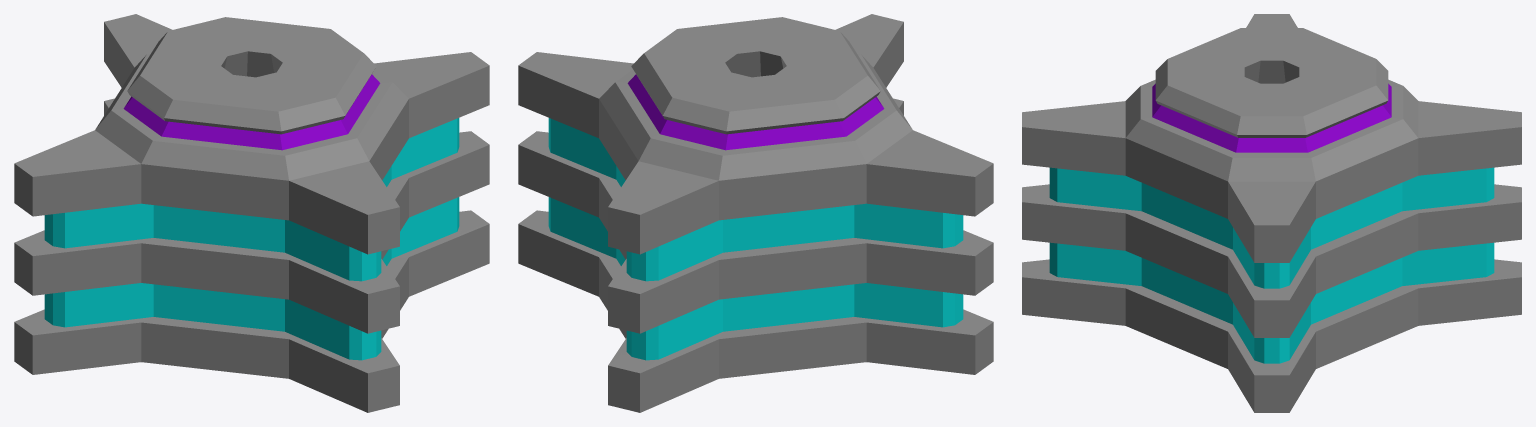
The model's file is StylBuilding6.fbx.
3 renders of one model, left to right at view 1: azimuth 30°, elevation 25°; view 2: azimuth 150°, elevation 25°; view 3: azimuth 270°, elevation 25°, orthographic. The views are drawn at different scales.
Parts seen in each view (by area): view 1: pGear2; view 2: pGear2; view 3: pGear2.
Part boxes in pixels (x1,y1,x2,y2): pGear2: (14,14,489,412); pGear2: (518,14,993,412); pGear2: (1022,14,1521,412).
Bounding box in the file's own units: 133 × 69.05 × 133.
